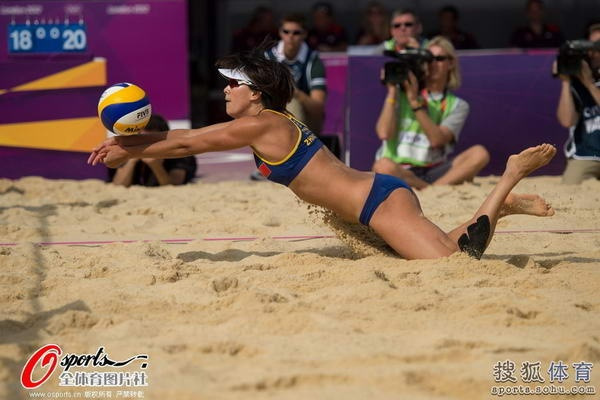falling: (98, 43, 566, 272)
